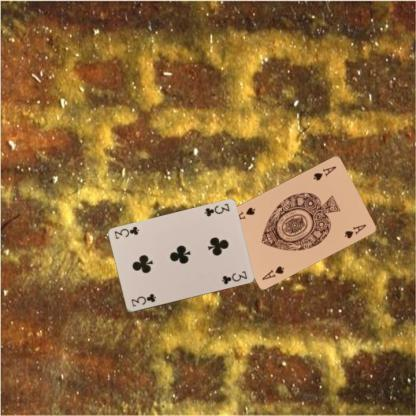3c: (128, 291, 157, 308), (202, 201, 231, 218)
As: (310, 162, 338, 181), (260, 263, 286, 281)
